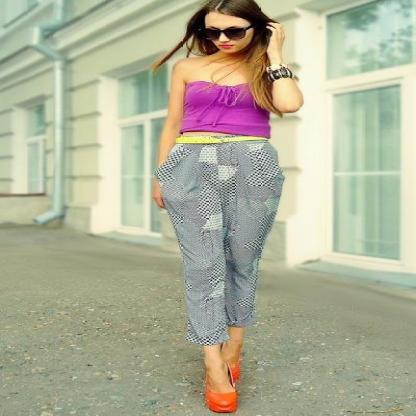pants: (151, 132, 284, 344)
shirt: (180, 81, 269, 136)
shoe: (206, 363, 242, 412)
sunglass: (197, 26, 236, 54)
